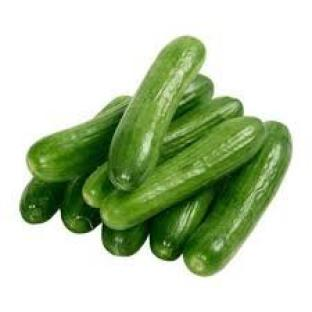Cucumber: (100, 117, 264, 230), (184, 123, 291, 275), (109, 37, 205, 191), (27, 96, 130, 181), (159, 98, 242, 162), (150, 189, 214, 260), (62, 177, 101, 232), (20, 178, 65, 223), (174, 74, 213, 117), (102, 222, 148, 256), (82, 163, 113, 207)
